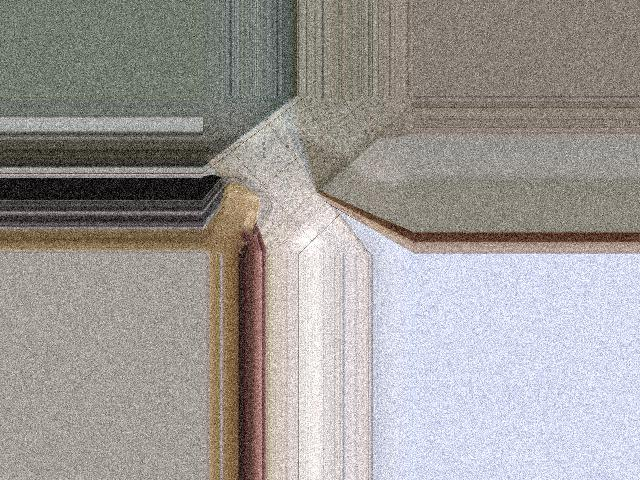cheese: (201, 177, 271, 255)
